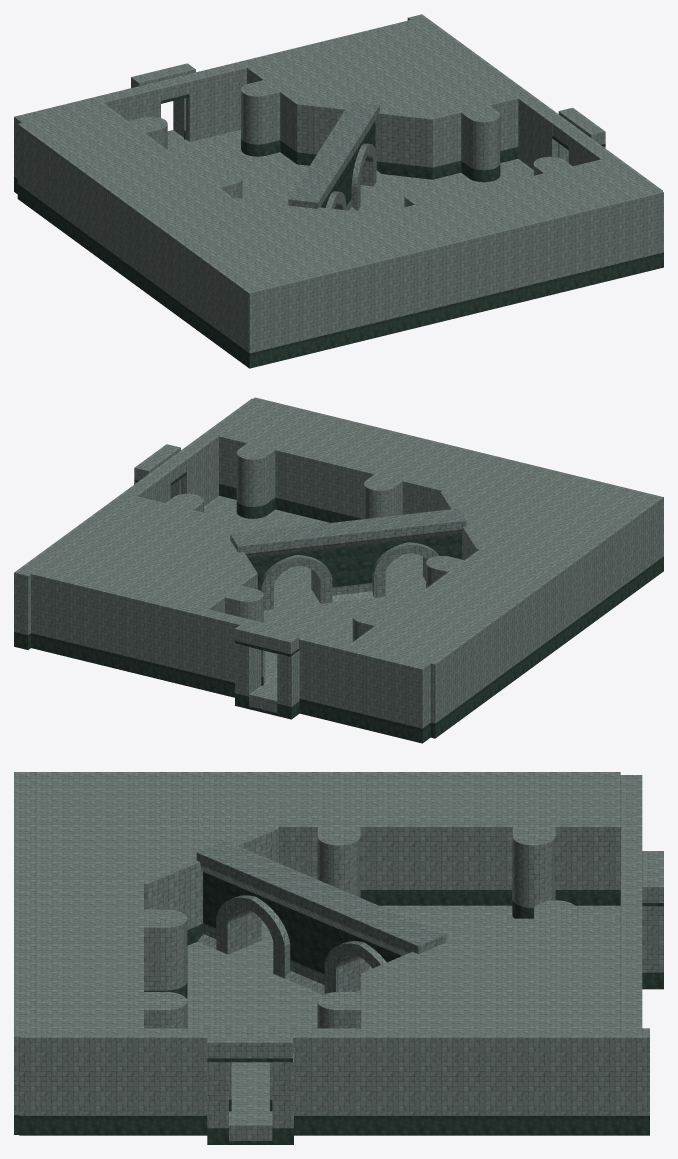
The model's file is largecorner.glb.
The picture shows the model from 3 angles, top to bottom: view 1: azimuth 30°, elevation 25°; view 2: azimuth 150°, elevation 25°; view 3: azimuth 270°, elevation 25°; orthographic projection. The views are drawn at different scales.
Visible parts, largest first — view 1: block (×13), block_corner_small, block_round (×4), wall_gate (×2), block_corner_large; view 2: block (×15), block_corner_small, wall_gate (×2), block_round (×5), block_corner_large; view 3: block (×15), block_corner_small, wall_gate (×2), block_round (×6), block_corner_large.
Part boxes in pixels (x1,y1,x2,y2): block (×13): (14,14,663,368); block_corner_small: (247,26,518,179); block_round (×4): (129,80,500,198); wall_gate (×2): (288,101,380,211); block_corner_large: (235,198,389,253); block (×15): (14,397,663,743); block_corner_small: (39,496,257,613); wall_gate (×2): (230,508,466,609); block_round (×5): (225,443,464,641); block_corner_large: (440,480,569,559); block (×15): (14,772,663,1144); block_corner_small: (360,918,620,1028); wall_gate (×2): (196,840,446,994); block_round (×6): (144,827,577,1028); block_corner_large: (105,810,278,945).
Bounding box in the file's own units: 29.98 × 5.5 × 30.
Materials: 62 (62 with a texture image).
